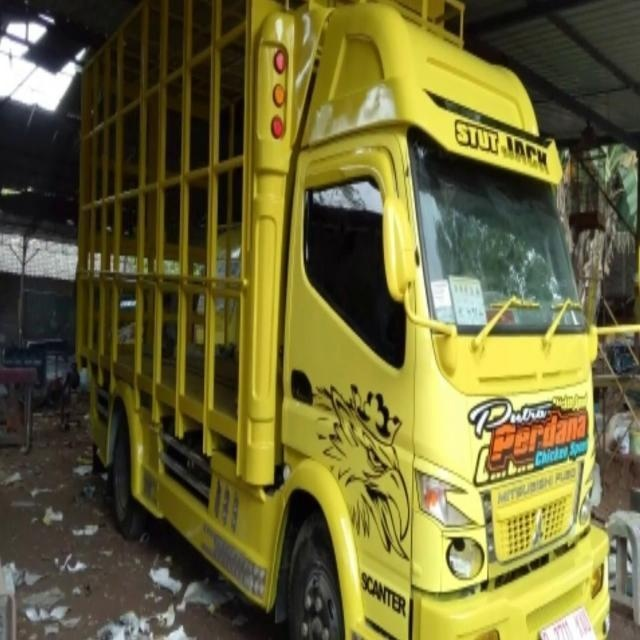Truck: (70, 18, 604, 640)
